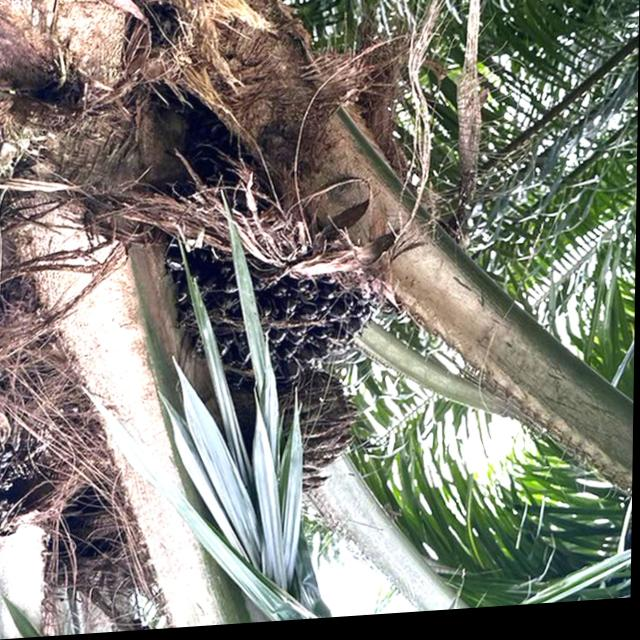unripe: (156, 200, 392, 401)
